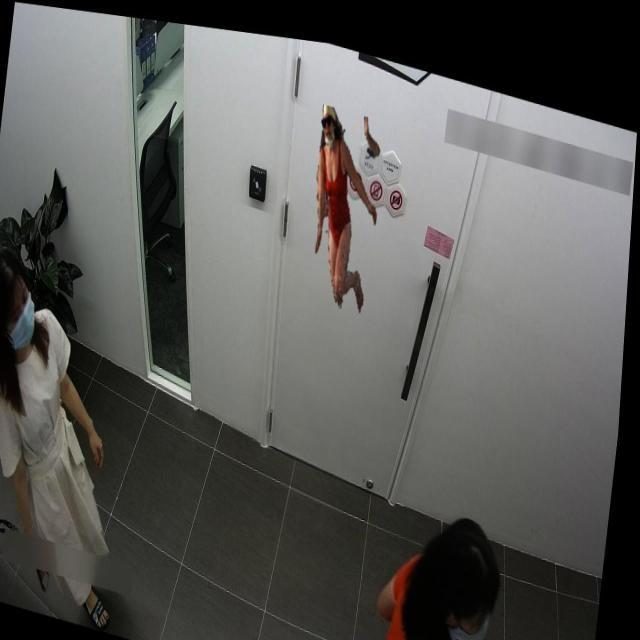hairnet: (322, 114, 337, 150)
